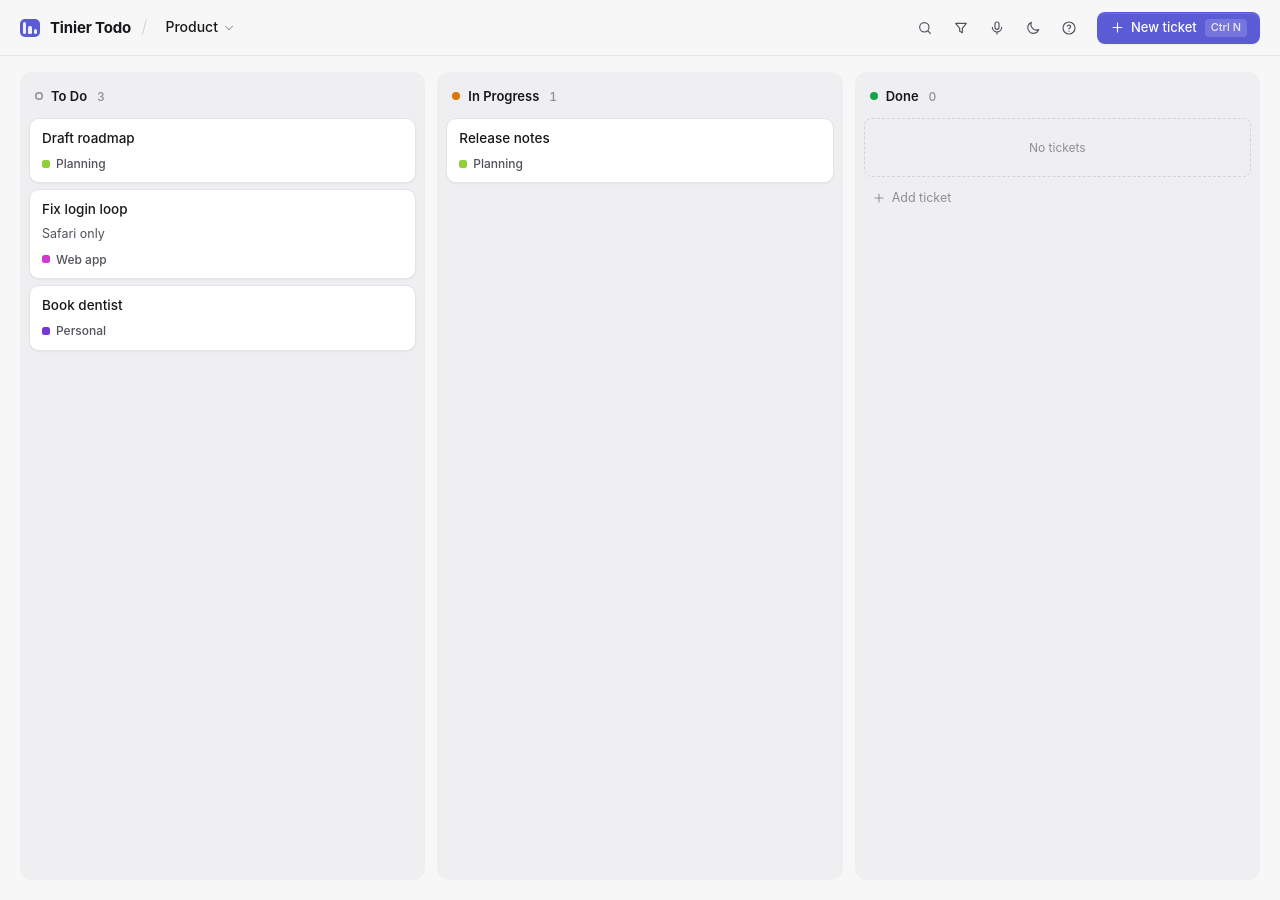
Test: App › creates a ticket with only a name from the full form
This screenshot has width=1280, height=900.
expect the text "Draft roadmap" is shown: met, box 42,130 -> 135,146
Click the button "New ticket Ctrl N". click: {"x": 1178, "y": 28}
box: 1097,12 -> 1260,44
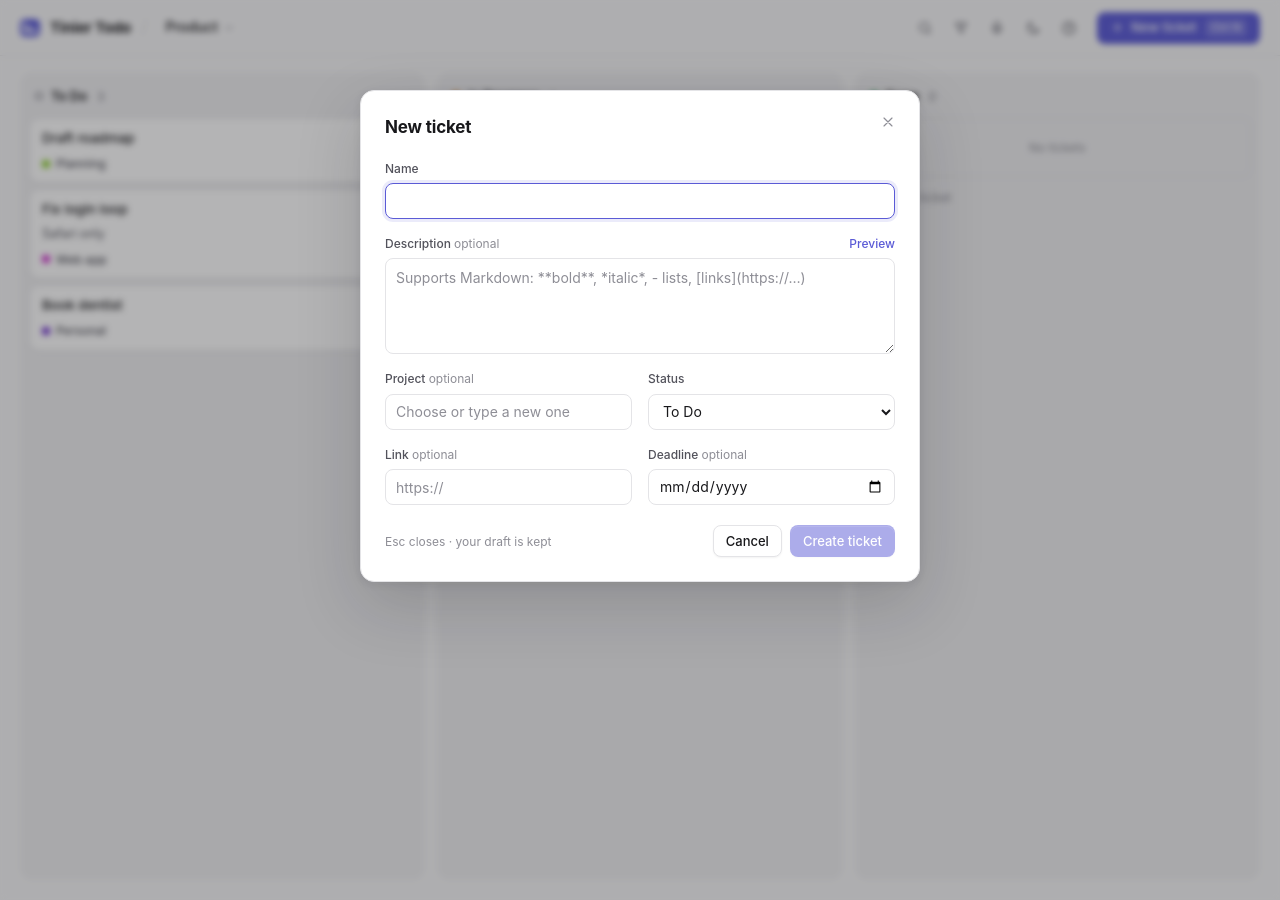
Type "Name only" into the field labelled "Name". click: {"x": 640, "y": 201}
box: 385,183 -> 895,219
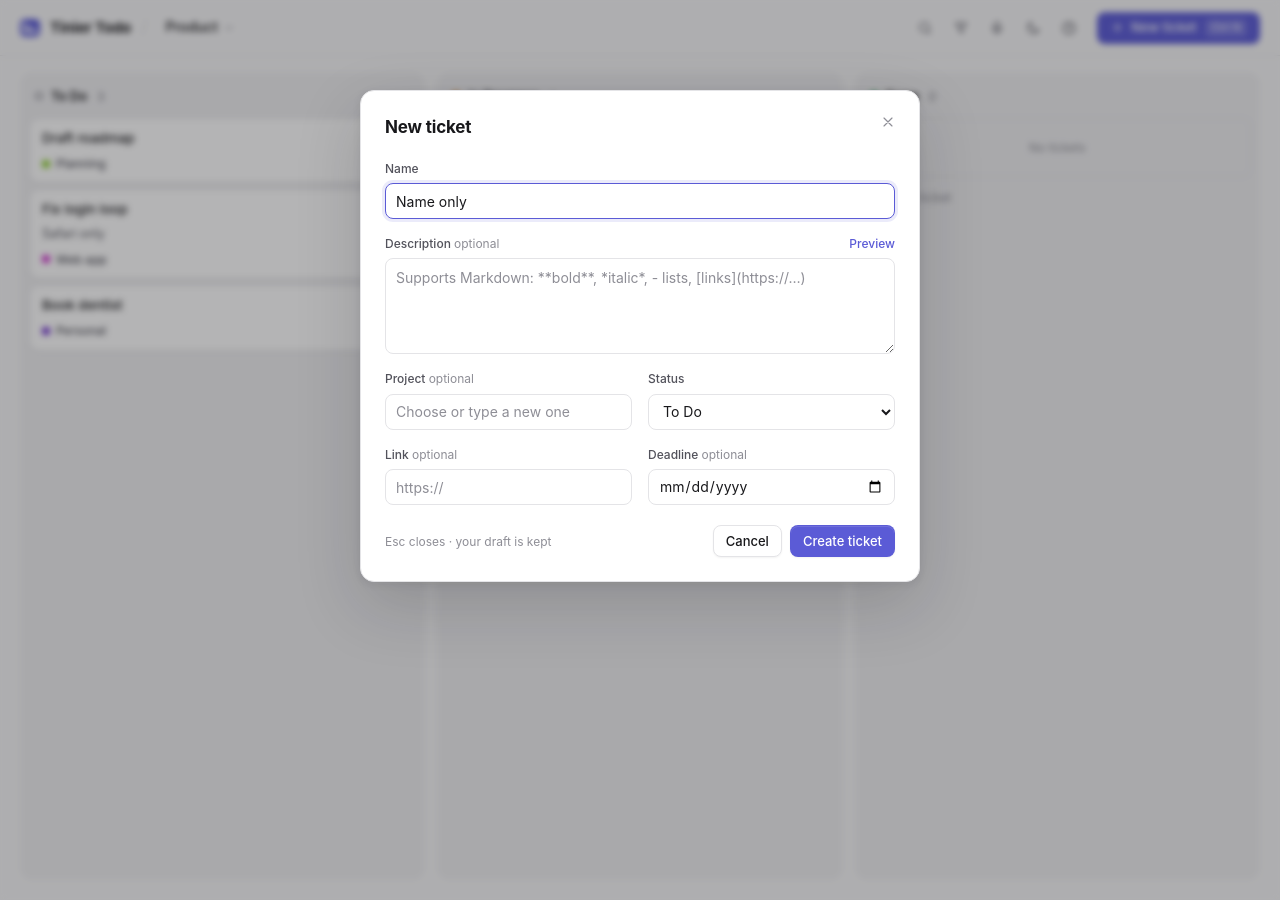
Click the button "Create ticket". click: {"x": 842, "y": 541}
box: 790,525 -> 895,557
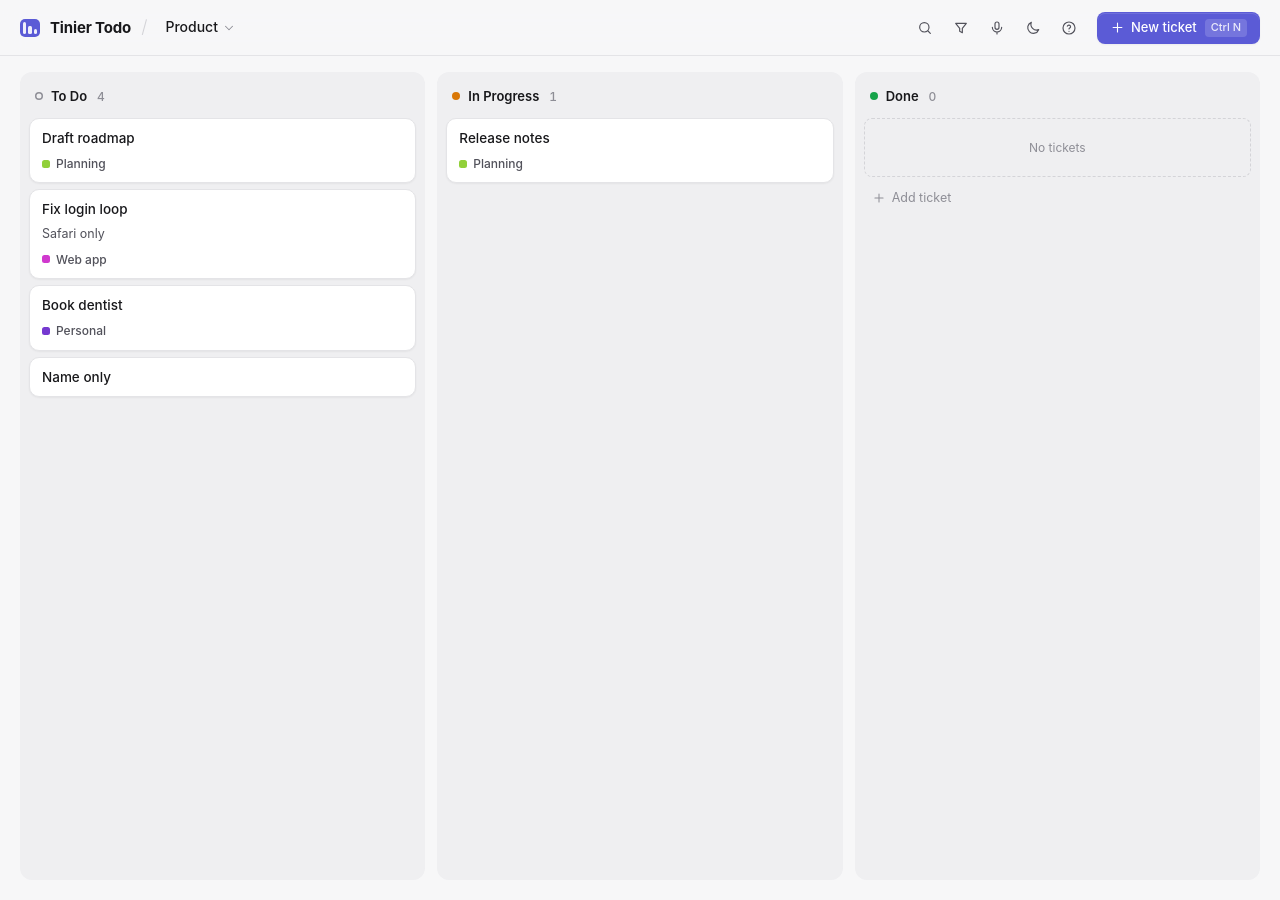
expect the text "Name only" is shown: met, box 42,369 -> 111,385
